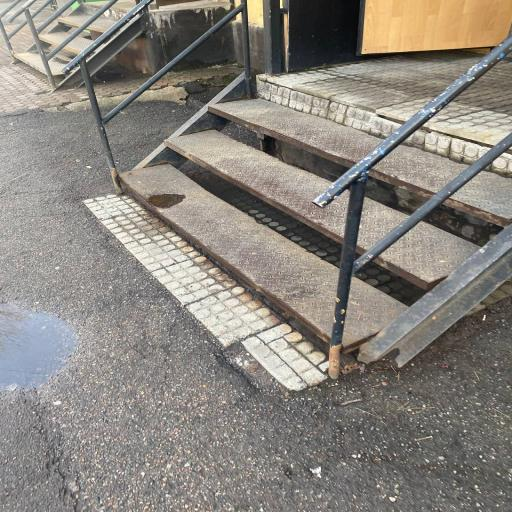sofa: (120, 100, 381, 341), (39, 6, 117, 87)
